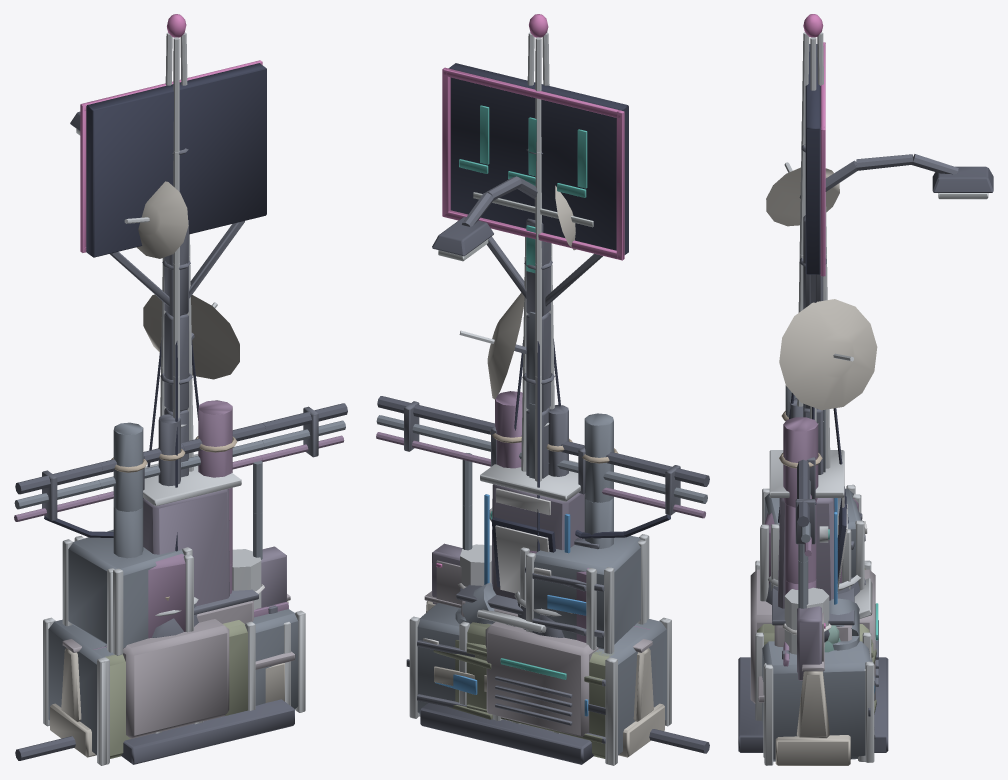
File: world_props.glb
3 views of the same model, side by side, from view 1: azimuth 30°, elevation 25°; view 2: azimuth 150°, elevation 25°; view 3: azimuth 270°, elevation 25° (orthographic).
Parts seen in each view (by area): view 1: holo_sign, roof_vent, cargo, antenna, cable_run, crate_stack, pipe_cluster, kiosk, barrier, crate, ac_unit, planter; view 2: holo_sign, cargo, roof_vent, cable_run, kiosk, crate_stack, antenna, pipe_cluster, street_lamp, barrier, crate, ac_unit; view 3: antenna, crate_stack, roof_vent, kiosk, holo_sign, pipe_cluster, barrier, cargo, cable_run, street_lamp, ac_unit, crate.
Boxes of the visible parts, x1,y1,x2,y2 form: holo_sign: (80, 60, 266, 477); roof_vent: (121, 597, 294, 764); cargo: (43, 529, 290, 765); antenna: (124, 14, 239, 551); cable_run: (14, 403, 347, 760); crate_stack: (47, 536, 305, 764); pipe_cluster: (111, 400, 237, 593); kiosk: (143, 454, 241, 606); barrier: (50, 594, 290, 757); crate: (154, 620, 255, 733); ac_unit: (165, 589, 258, 623); planter: (255, 651, 295, 702); holo_sign: (442, 63, 628, 478); cargo: (419, 534, 671, 765); roof_vent: (420, 582, 598, 764); cable_run: (376, 396, 709, 753); kiosk: (477, 460, 584, 632); crate_stack: (406, 540, 668, 765); antenna: (459, 14, 576, 551); pipe_cluster: (460, 391, 618, 591); street_lamp: (432, 176, 549, 426); barrier: (424, 591, 664, 757); crate: (459, 621, 560, 733); ac_unit: (456, 584, 523, 624); antenna: (766, 14, 877, 523); crate_stack: (755, 494, 875, 765); roof_vent: (738, 569, 888, 752); kiosk: (769, 450, 872, 618); holo_sign: (803, 42, 825, 474); pipe_cluster: (779, 385, 838, 642); barrier: (775, 649, 851, 765); cargo: (755, 484, 876, 761); cable_run: (795, 457, 825, 680); street_lamp: (818, 154, 993, 424); ac_unit: (772, 588, 854, 646); crate: (755, 624, 873, 720).
Bounding box in the file's own units: 3 × 6.26 × 2.04.
